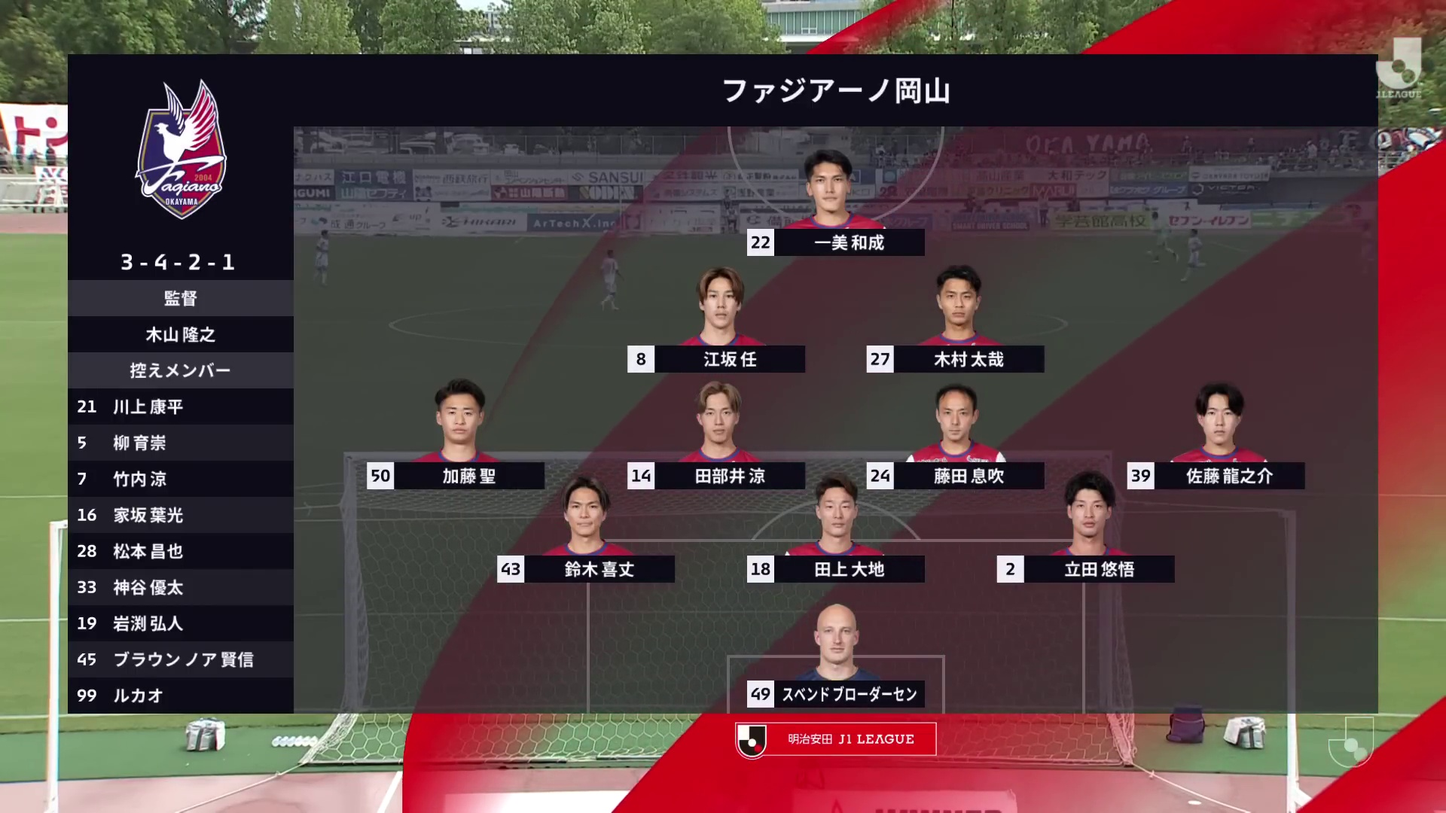player: (313, 227, 332, 287)
